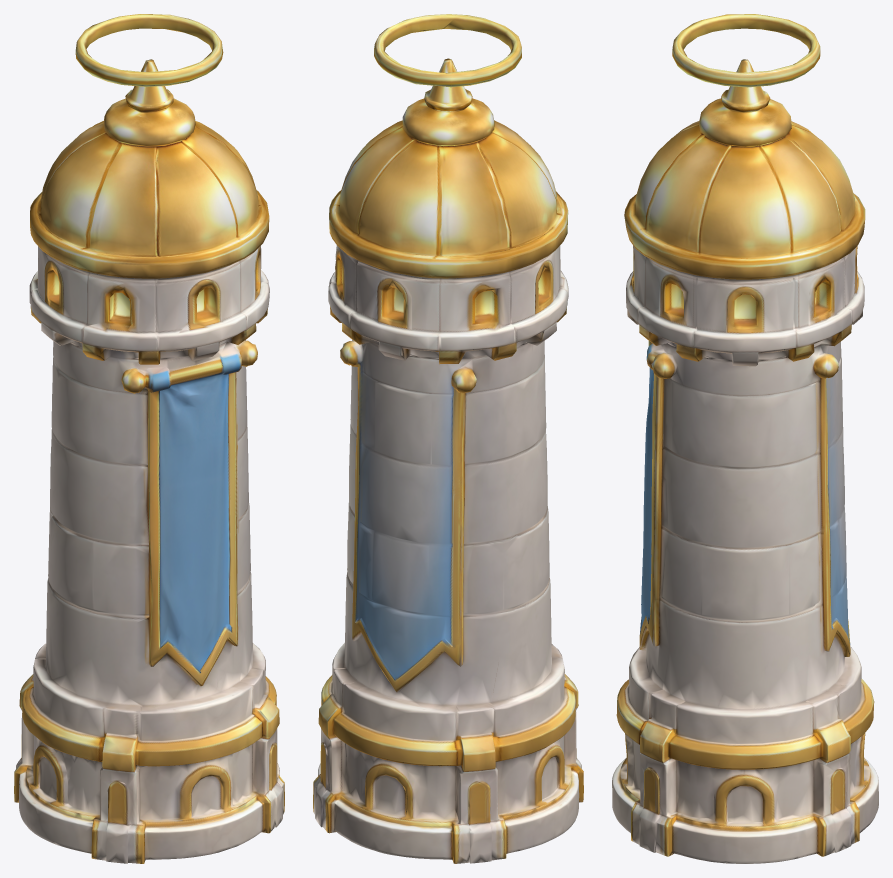
Rendered from Halo_Tower_HD_plain.glb.
3 renders of one model, left to right at view 1: azimuth 30°, elevation 25°; view 2: azimuth 150°, elevation 25°; view 3: azimuth 270°, elevation 25°, orthographic.
Parts seen in each view (by area): view 1: tripo_node_1941aca0-8f52-4de3-9544-e149ad63f004; view 2: tripo_node_1941aca0-8f52-4de3-9544-e149ad63f004; view 3: tripo_node_1941aca0-8f52-4de3-9544-e149ad63f004.
Boxes of the visible parts, x1,y1,x2,y2 form: tripo_node_1941aca0-8f52-4de3-9544-e149ad63f004: (14,14,284,863); tripo_node_1941aca0-8f52-4de3-9544-e149ad63f004: (313,14,583,863); tripo_node_1941aca0-8f52-4de3-9544-e149ad63f004: (612,14,878,863).
Bounding box in the file's own units: 0.3117 × 0.9789 × 0.3089.
Materials: 1 (1 with a texture image).
